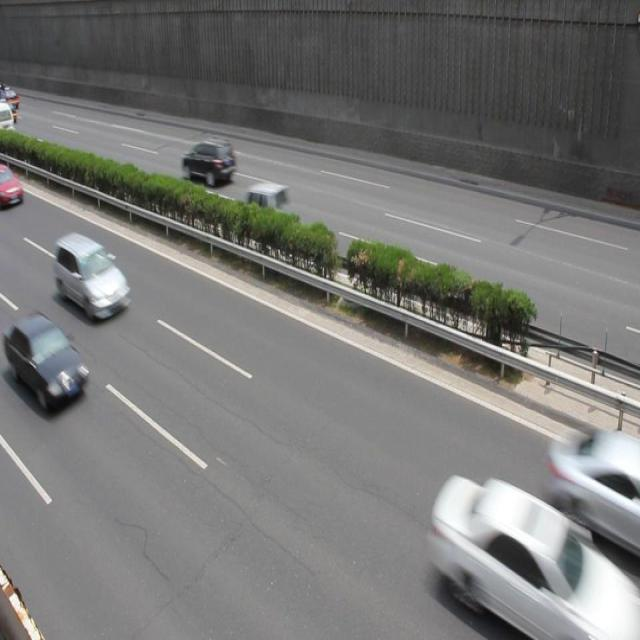car: (432, 474, 608, 628), (1, 310, 89, 411), (548, 430, 626, 543), (54, 231, 130, 322), (237, 181, 292, 239), (181, 140, 235, 186)
